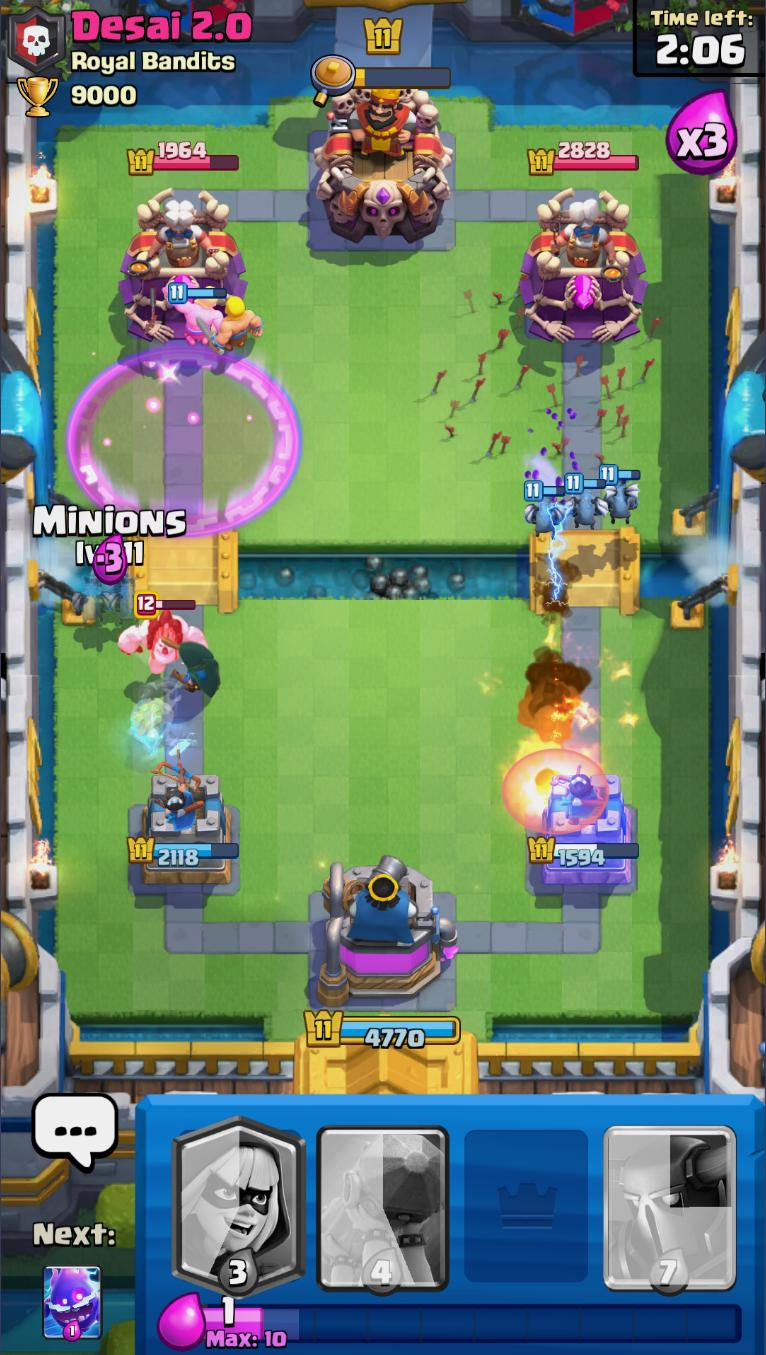ArrowDeck: (426, 286, 669, 469)
BanditDeck: (167, 1097, 313, 1290)
BattleRamDeck: (310, 1100, 456, 1296)
Chef: (147, 199, 220, 270), (549, 204, 620, 269)
ElectroSpiritNext: (41, 1261, 104, 1343)
Elixir: (202, 1296, 742, 1349)
Empty: (453, 1100, 599, 1300)
EnemyTower: (119, 189, 249, 344), (520, 189, 649, 343)
IceGolem: (120, 592, 208, 677)
KingTower: (314, 84, 456, 244)
MyBandit: (167, 633, 224, 700)
MyBarbarian: (200, 294, 266, 359), (171, 281, 230, 346)
MyKingHP: (301, 1004, 463, 1053)
MyKingTower: (311, 853, 461, 1009)
MyMinion: (599, 464, 643, 526), (526, 480, 569, 541), (564, 473, 607, 534)
MyPrincessTower: (127, 774, 240, 889), (529, 774, 641, 890)
MyPrincessTowerHP: (126, 833, 241, 869), (529, 833, 641, 867)
MyRoyaleGhost: (124, 683, 199, 761)
PekkaDeck: (599, 1100, 744, 1297)
Rage: (67, 346, 303, 534)
TowerPrincessHP: (529, 141, 641, 177), (129, 141, 241, 174)
